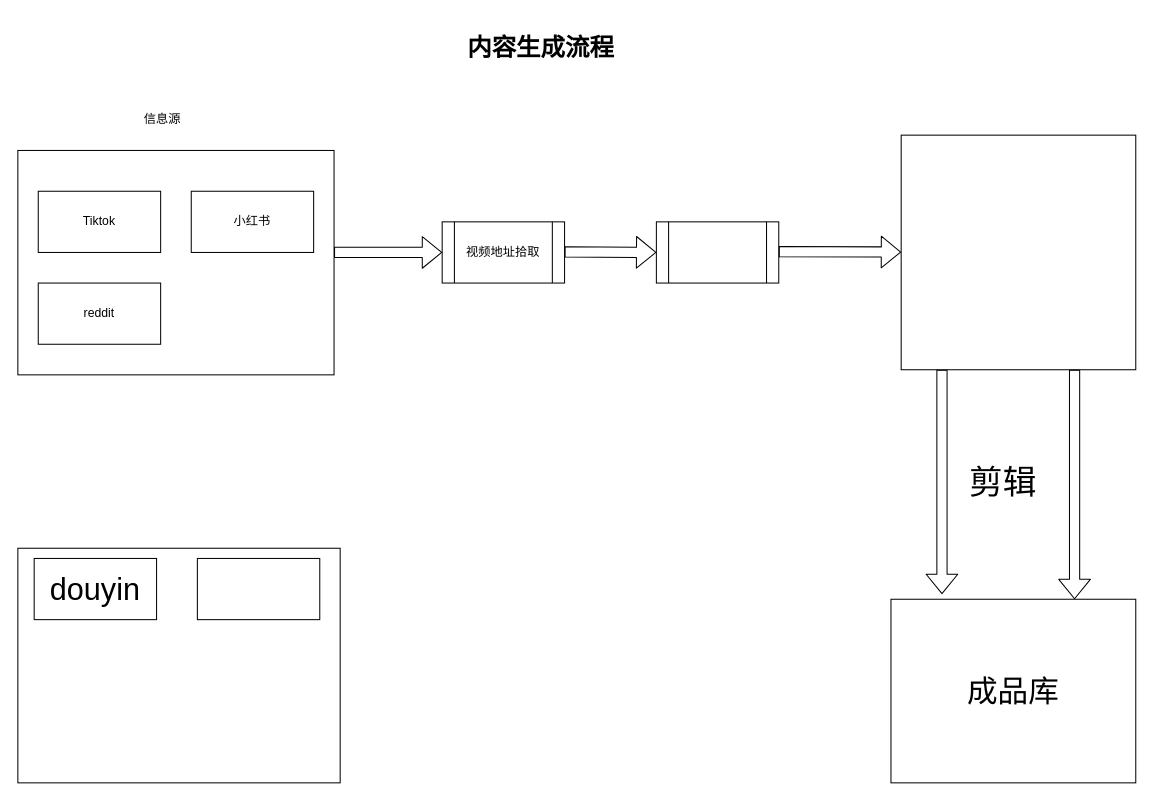
This 1154x801 diagram has some shape labels left out. The shapes that lost their labels are listed below. From the top down, each one's centre as x and y in pixels, then its label:
(x=717, y=252): 视频去水印
(x=1018, y=252): 素材库
